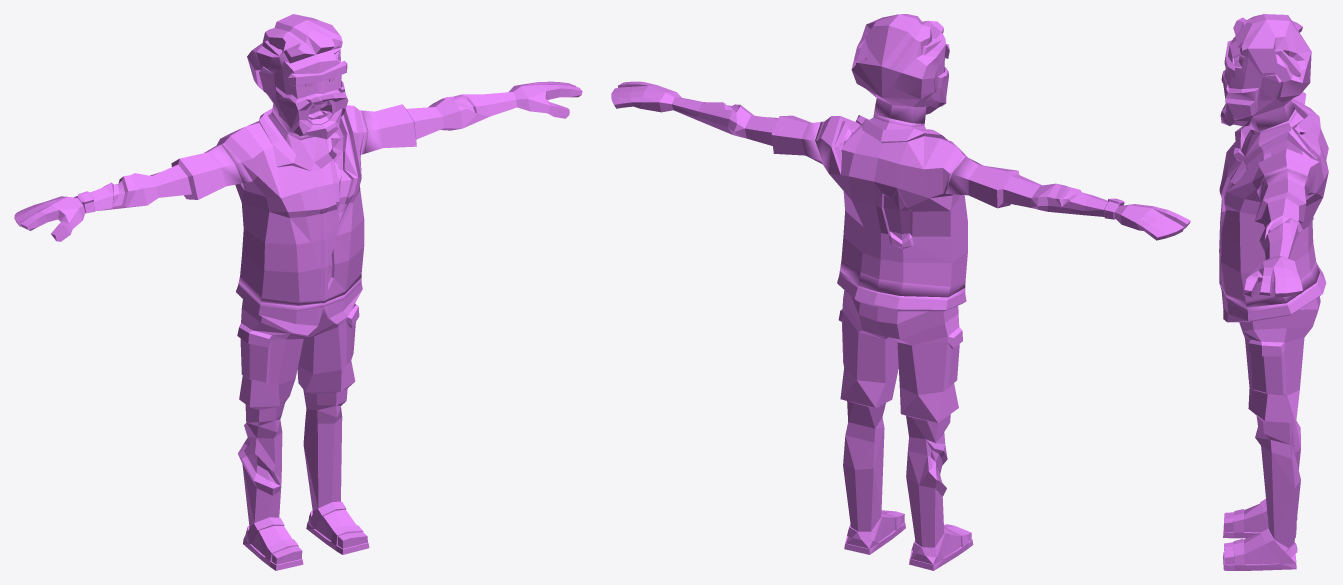
The model's file is FinalZombieFatherMale.fbx.
3 renders of one model, left to right at view 1: azimuth 30°, elevation 25°; view 2: azimuth 150°, elevation 25°; view 3: azimuth 270°, elevation 25°, orthographic.
Visible parts, largest first — view 1: Legs.003, Body.003, Head.003, RightArm.003, LeftArm.003; view 2: Legs.003, Body.003, Head.003, RightArm.003, LeftArm.003; view 3: Legs.003, Body.003, Head.003, LeftArm.003.
Boxes of the visible parts, x1,y1,x2,y2 form: Legs.003: (236, 278, 369, 570); Body.003: (215, 105, 368, 305); Head.003: (247, 14, 348, 139); RightArm.003: (14, 145, 242, 241); LeftArm.003: (363, 81, 582, 153); Legs.003: (837, 271, 973, 570); Body.003: (815, 114, 967, 297); Head.003: (851, 14, 949, 123); RightArm.003: (945, 156, 1190, 240); LeftArm.003: (611, 81, 822, 164); Legs.003: (1220, 264, 1326, 570); Body.003: (1219, 99, 1328, 307); Head.003: (1220, 14, 1311, 131); LeftArm.003: (1243, 168, 1309, 297).
Bounding box in the file's own units: 205 × 183 × 34.34.
